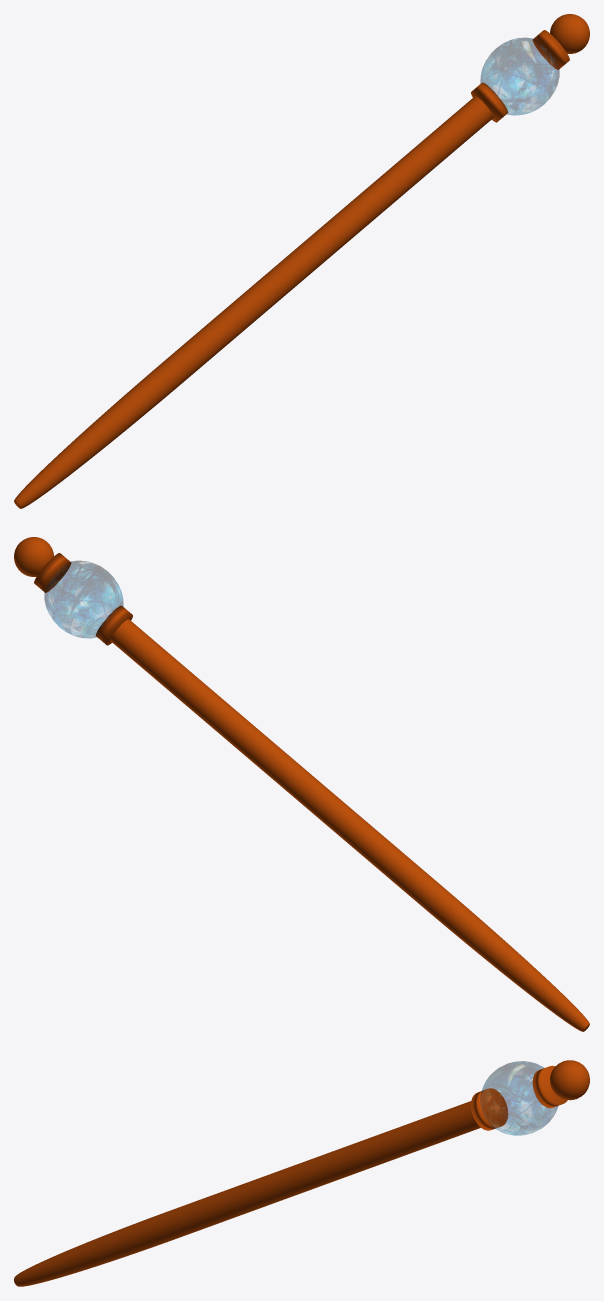
File: kanzashi.glb
The picture shows the model from 3 angles, top to bottom: view 1: azimuth 30°, elevation 25°; view 2: azimuth 150°, elevation 25°; view 3: azimuth 330°, elevation 25°; orthographic projection.
Visible parts, largest first — view 1: 円柱, 球, 球.001, 円柱.002, 円柱.001; view 2: 円柱, 球, 球.001, 円柱.002, 円柱.001; view 3: 円柱, 球, 球.001, 円柱.001, 円柱.002.
Boxes of the visible parts, <box> form: 円柱: <box>14,96,493,508</box>; 球: <box>480,38,559,115</box>; 球.001: <box>550,14,589,53</box>; 円柱.002: <box>532,30,569,69</box>; 円柱.001: <box>471,82,508,122</box>; 円柱: <box>110,619,589,1031</box>; 球: <box>44,561,123,638</box>; 球.001: <box>14,537,53,576</box>; 円柱.002: <box>34,553,71,592</box>; 円柱.001: <box>95,605,132,645</box>; 円柱: <box>14,1101,480,1286</box>; 球: <box>480,1061,557,1135</box>; 球.001: <box>550,1060,589,1100</box>; 円柱.001: <box>471,1088,508,1130</box>; 円柱.002: <box>532,1065,567,1108</box>.
Size of the model in its own units: 1.92 by 1.15 by 0.2151.
Materials: 2 (1 with a texture image).
